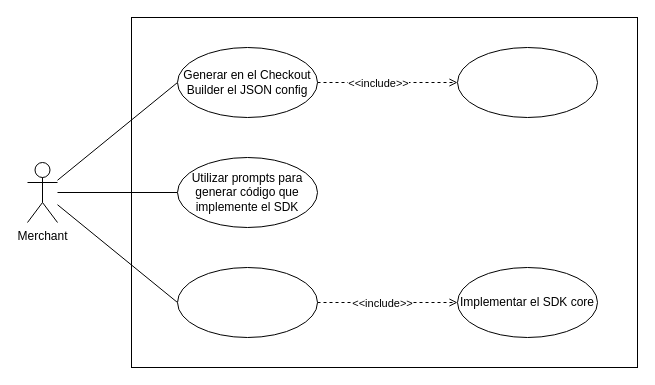
Some shapes in this 655 by 385 pixel diagram are drawn without their labels. The centre of each missing label's shape, as x and y in pixels:
Diseñar desde 0 el checkout: (x=247, y=302)
Implementar el SDK UI en la aplicación cliente: (x=527, y=82)
